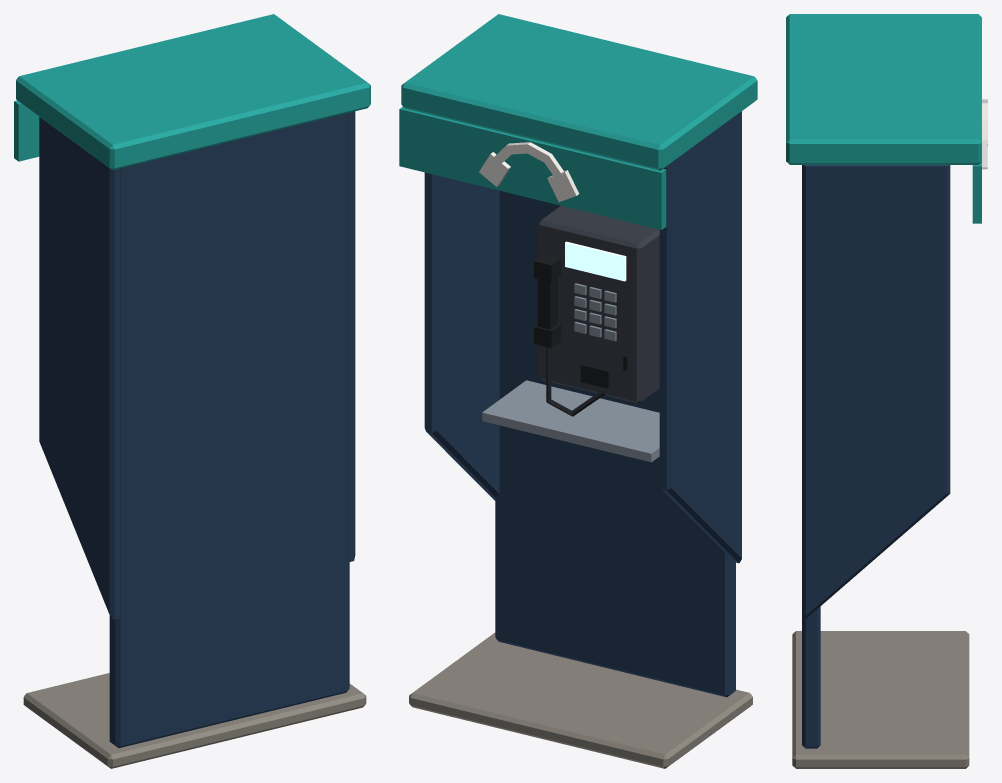
Rendered from phone_kiosk.glb.
3 views of the same model, side by side, from view 1: azimuth 30°, elevation 25°; view 2: azimuth 150°, elevation 25°; view 3: azimuth 270°, elevation 25° (orthographic).
Visible parts, largest first — view 1: phone_kiosk; view 2: phone_kiosk; view 3: phone_kiosk.
Part boxes in pixels (left/top/right/bottom): phone_kiosk: left=14, top=14, right=370, bottom=768; phone_kiosk: left=399, top=14, right=757, bottom=768; phone_kiosk: left=786, top=14, right=987, bottom=768.
Bounding box in the file's own units: 0.96 × 2.2 × 0.6386.
